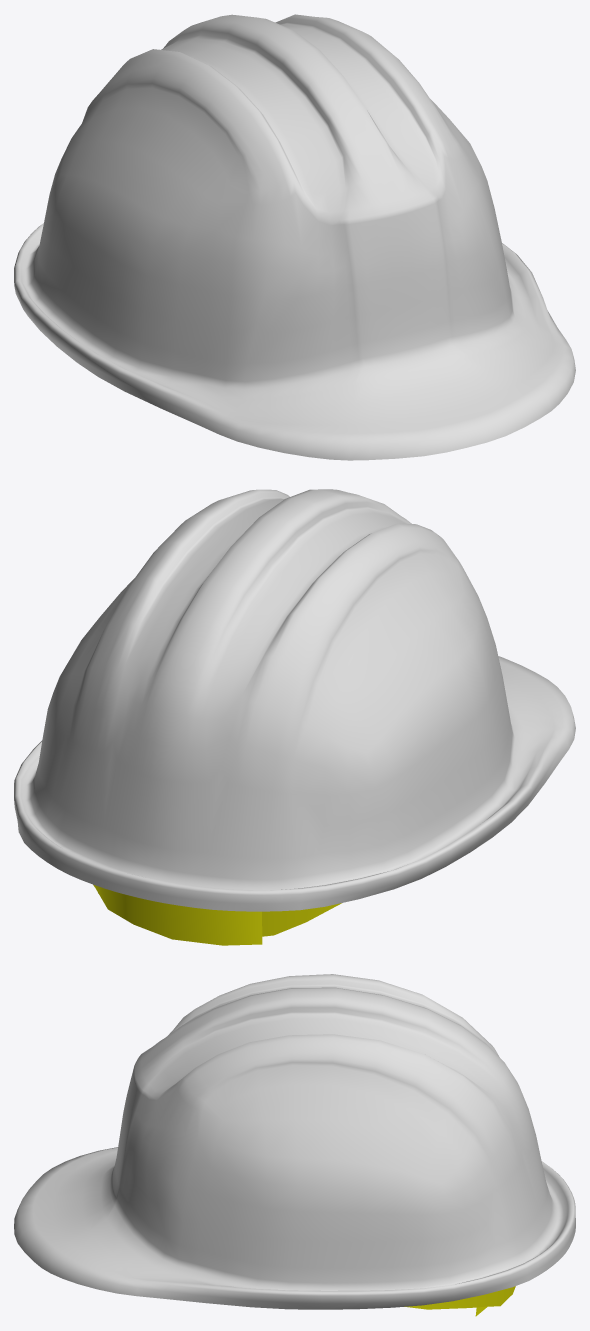
Rendered from Hard Hat.fbx.
The picture shows the model from 3 angles, top to bottom: view 1: azimuth 30°, elevation 25°; view 2: azimuth 150°, elevation 25°; view 3: azimuth 270°, elevation 25°; orthographic projection. The views are drawn at different scales.
Visible parts, largest first — view 1: helm; view 2: helm; view 3: helm.
Boxes of the visible parts, x1=… form: helm: x1=14, y1=14, x2=575, y2=460; helm: x1=14, y1=489, x2=575, y2=945; helm: x1=14, y1=974, x2=575, y2=1316.
Bounding box in the file's own units: 4306 × 3274 × 5787.
